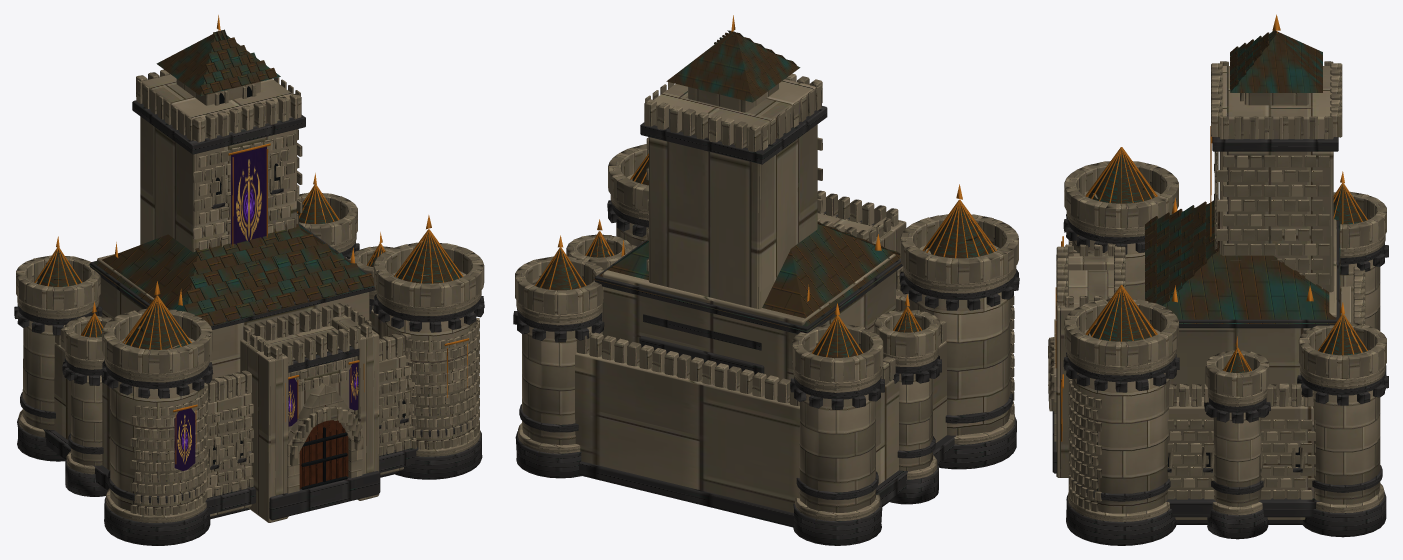
Rendered from hegemony-main-castle-balanced.glb.
3 renders of one model, left to right at view 1: azimuth 30°, elevation 25°; view 2: azimuth 150°, elevation 25°; view 3: azimuth 270°, elevation 25°, orthographic. The views are drawn at different scales.
Parts seen in each view (by area): view 1: WK_Hegemony_Hero_Castle_LOD0_High; view 2: WK_Hegemony_Hero_Castle_LOD0_High; view 3: WK_Hegemony_Hero_Castle_LOD0_High.
Boxes of the visible parts, x1,y1,x2,y2 form: WK_Hegemony_Hero_Castle_LOD0_High: (14,15,484,545); WK_Hegemony_Hero_Castle_LOD0_High: (513,15,1019,545); WK_Hegemony_Hero_Castle_LOD0_High: (1048,14,1388,545).
Bounding box in the file's own units: 12.82 × 14.06 × 9.87.
1 material, 1 textured.
